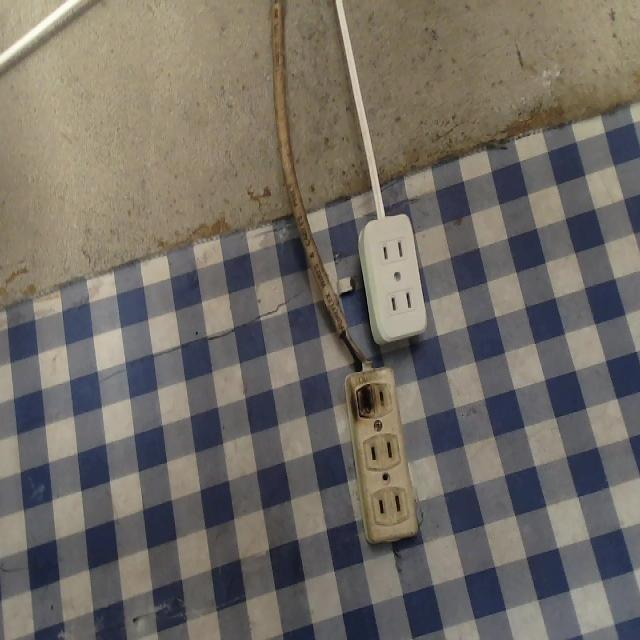-: (343, 374, 380, 429)
